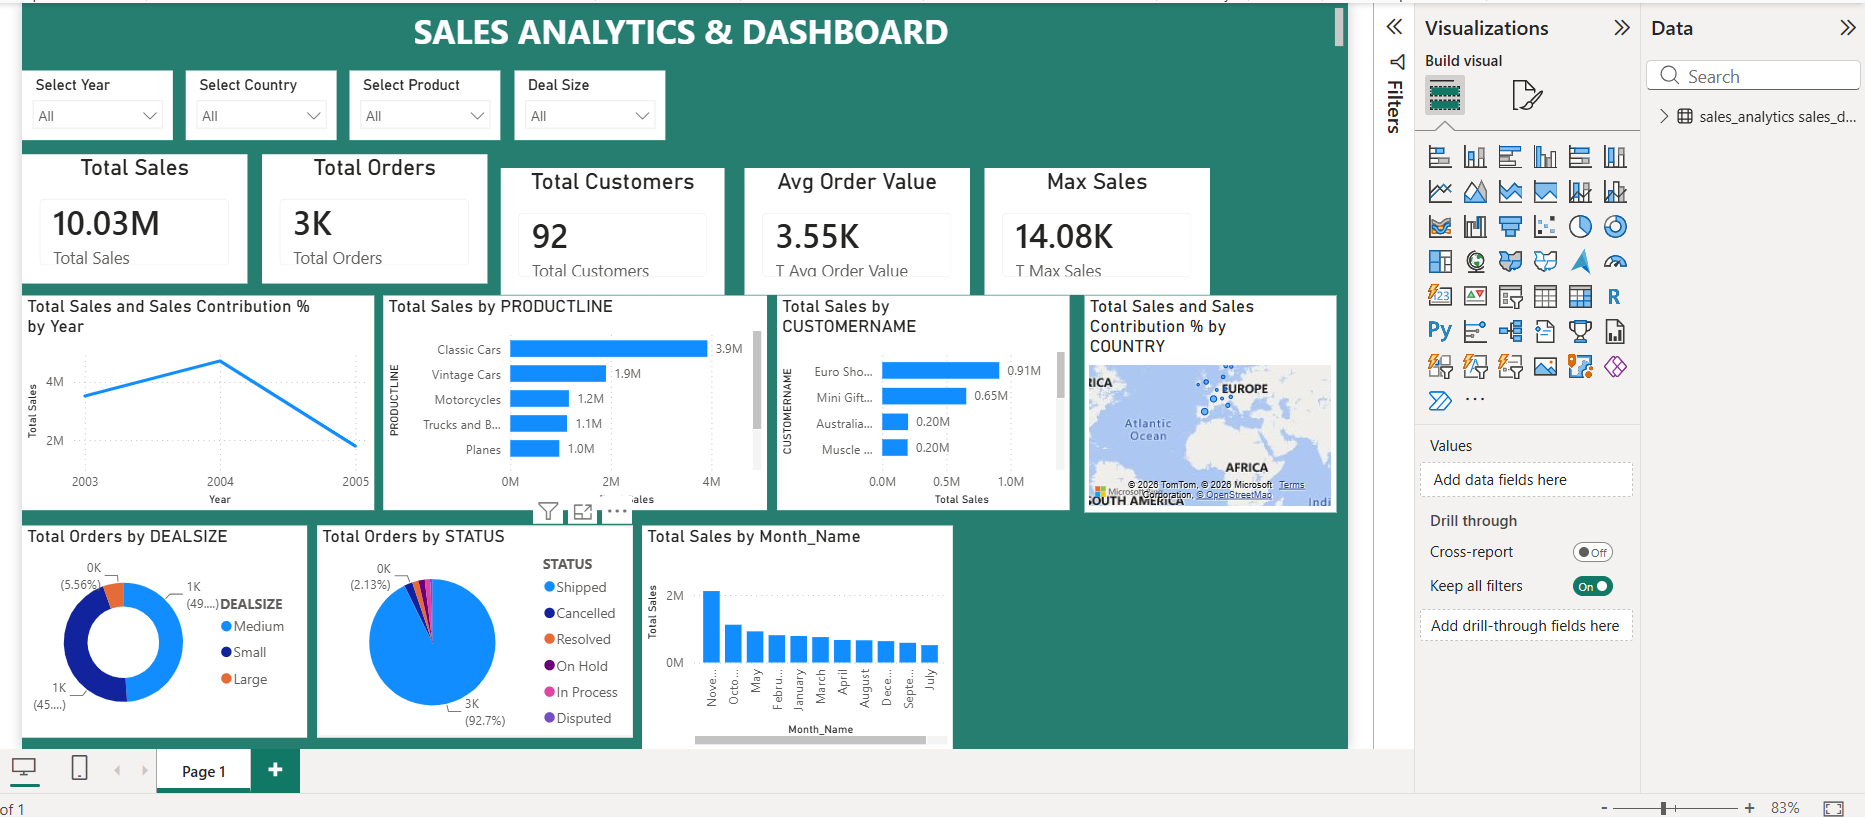

The dashboard page shown, as its layout file describes it:
{"tool":"powerbi","page":{"name":"Page 1","canvas":[1280,720],"ordinal":0},"visuals":[{"type":"textbox","box":[0,0,1280,49.5],"z":0},{"type":"slicer","fields":{"Values":["sales_analytics sales_data.Year"]},"box":[0,65.1,146,67.6],"z":1},{"type":"slicer","fields":{"Values":["sales_analytics sales_data.COUNTRY"]},"box":[158,65.1,146,67.6],"z":2},{"type":"slicer","fields":{"Values":["sales_analytics sales_data.PRODUCTLINE"]},"box":[316.1,65.1,146,67.6],"z":3},{"type":"slicer","fields":{"Values":["sales_analytics sales_data.DEALSIZE"]},"box":[475.3,65.1,146,67.6],"z":4},{"type":"cardVisual","title":"Total Sales","fields":{"Data":["sales_analytics sales_data.Total Sales"]},"box":[0,146.2,217.5,125],"z":5},{"type":"cardVisual","title":"Total Orders","fields":{"Data":["sales_analytics sales_data.Total Orders"]},"box":[231.2,146.2,217.5,125],"z":6},{"type":"cardVisual","title":"Total Customers","fields":{"Data":["sales_analytics sales_data.Total Customers"]},"box":[462.5,158.8,216.2,122.5],"z":7},{"type":"cardVisual","title":"Avg Order Value","fields":{"Data":["sales_analytics sales_data.T Avg Order Value"]},"box":[697.5,158.8,217.5,122.5],"z":8},{"type":"cardVisual","title":"Max Sales","fields":{"Data":["sales_analytics sales_data.T Max Sales"]},"box":[928.8,158.8,217.5,122.5],"z":9},{"type":"lineChart","fields":{"Category":["sales_analytics sales_data.ORDERDATE.Variation.Date Hierarchy.Year","sales_analytics sales_data.ORDERDATE.Variation.Date Hierarchy.Quarter","sales_analytics sales_data.ORDERDATE.Variation.Date Hierarchy.Month","sales_analytics sales_data.ORDERDATE.Variation.Date Hierarchy.Day"],"Y":["sales_analytics sales_data.Total Sales"]},"box":[0,282.5,340,207.5],"z":10},{"type":"clusteredBarChart","fields":{"Category":["sales_analytics sales_data.PRODUCTLINE"],"Y":["sales_analytics sales_data.Total Sales"]},"box":[348.8,282.5,370,207.5],"z":11},{"type":"clusteredBarChart","fields":{"Y":["sales_analytics sales_data.Total Sales"],"Category":["sales_analytics sales_data.CUSTOMERNAME"]},"box":[728.8,282.5,282.5,207.5],"z":12},{"type":"map","fields":{"Category":["sales_analytics sales_data.COUNTRY"],"Size":["sales_analytics sales_data.Total Sales"]},"box":[1025,282.5,242.5,208.8],"z":13},{"type":"donutChart","fields":{"Category":["sales_analytics sales_data.DEALSIZE"],"Y":["sales_analytics sales_data.Total Orders"]},"box":[0,503.8,275,205],"z":14},{"type":"pieChart","fields":{"Category":["sales_analytics sales_data.STATUS"],"Y":["sales_analytics sales_data.Total Orders"]},"box":[285,503.8,305,205],"z":15},{"type":"columnChart","fields":{"Category":["sales_analytics sales_data.Month_Name"],"Y":["sales_analytics sales_data.Total Sales"]},"box":[598.8,503.8,300,216.2],"z":16}]}

Visuals, with their boxes on the page's 1280x720 design canvas (x1, y1, x2, y2). These are canvas units, not pixel positions in the 1865x817 screenshot, which may show the page scaled, cropped or inside an application window:
textbox: 0,0,1280,50
slicer - sales_analytics sales_data.Year: 0,65,146,133
slicer - sales_analytics sales_data.COUNTRY: 158,65,304,133
slicer - sales_analytics sales_data.PRODUCTLINE: 316,65,462,133
slicer - sales_analytics sales_data.DEALSIZE: 475,65,621,133
"Total Sales" cardVisual: 0,146,218,271
"Total Orders" cardVisual: 231,146,449,271
"Total Customers" cardVisual: 462,159,679,281
"Avg Order Value" cardVisual: 698,159,915,281
"Max Sales" cardVisual: 929,159,1146,281
lineChart - sales_analytics sales_data.ORDERDATE.Variation.Date Hierarchy.Year x sales_analytics sales_data.ORDERDATE.Variation.Date Hierarchy.Quarter: 0,282,340,490
clusteredBarChart - sales_analytics sales_data.PRODUCTLINE x sales_analytics sales_data.Total Sales: 349,282,719,490
clusteredBarChart - sales_analytics sales_data.Total Sales x sales_analytics sales_data.CUSTOMERNAME: 729,282,1011,490
map - sales_analytics sales_data.COUNTRY x sales_analytics sales_data.Total Sales: 1025,282,1268,491
donutChart - sales_analytics sales_data.DEALSIZE x sales_analytics sales_data.Total Orders: 0,504,275,709
pieChart - sales_analytics sales_data.STATUS x sales_analytics sales_data.Total Orders: 285,504,590,709
columnChart - sales_analytics sales_data.Month_Name x sales_analytics sales_data.Total Sales: 599,504,899,720
